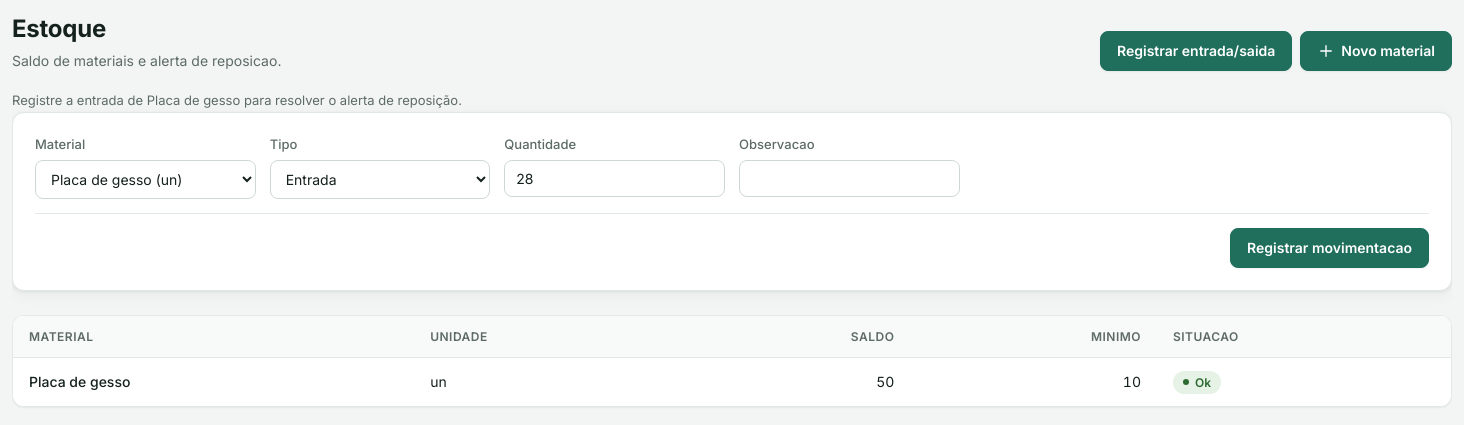
Estoque: atalho do "Resolver" de um alerta de reposição (EAP-68) › se resolver o alerta falha, avisa que a entrada foi registrada e fica no Estoque
Expected: the cell "Placa de gesso" is shown, [13,358,414,406]
Click the button "Registrar movimentacao" at (1330,248), box [1230,228,1429,268]
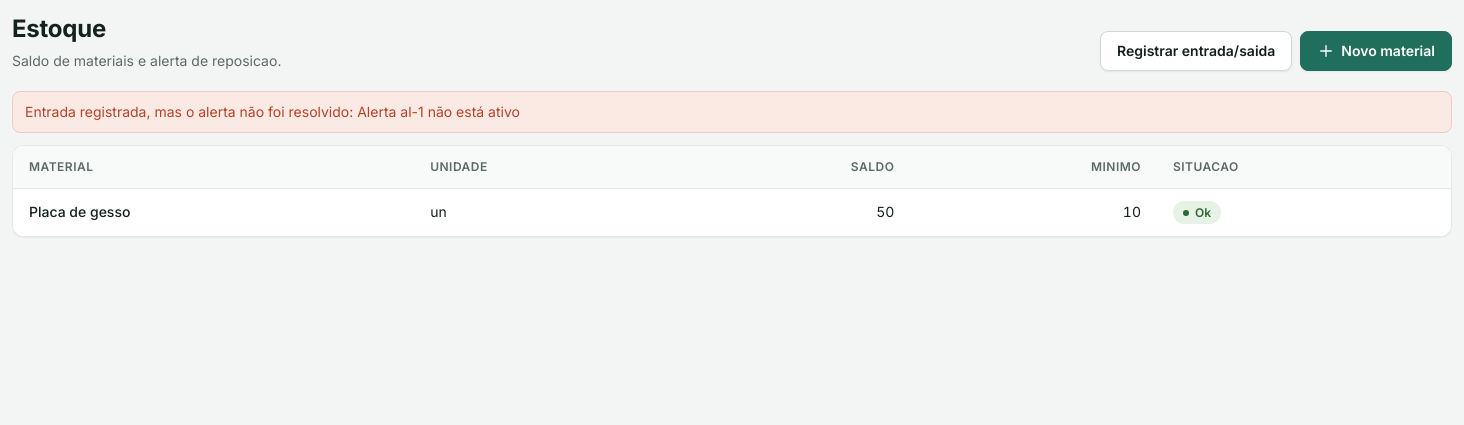
Now the label labelled "Quantidade" is gone
